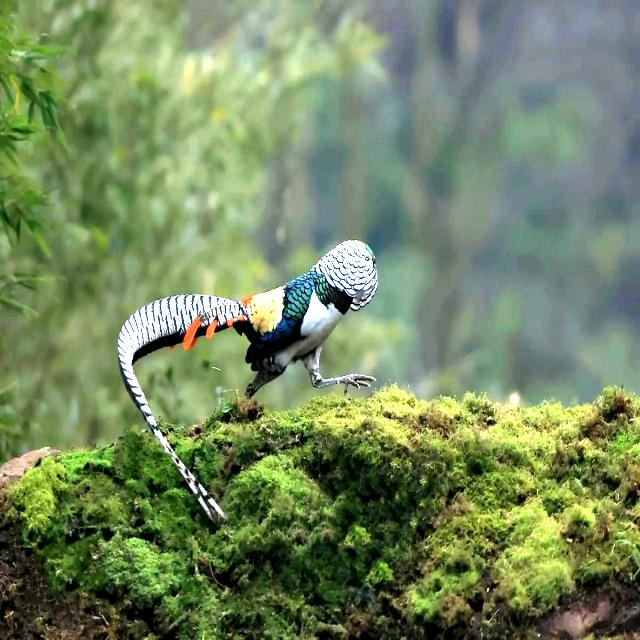Chrysolophus amherstiae: (118, 294, 250, 497)
